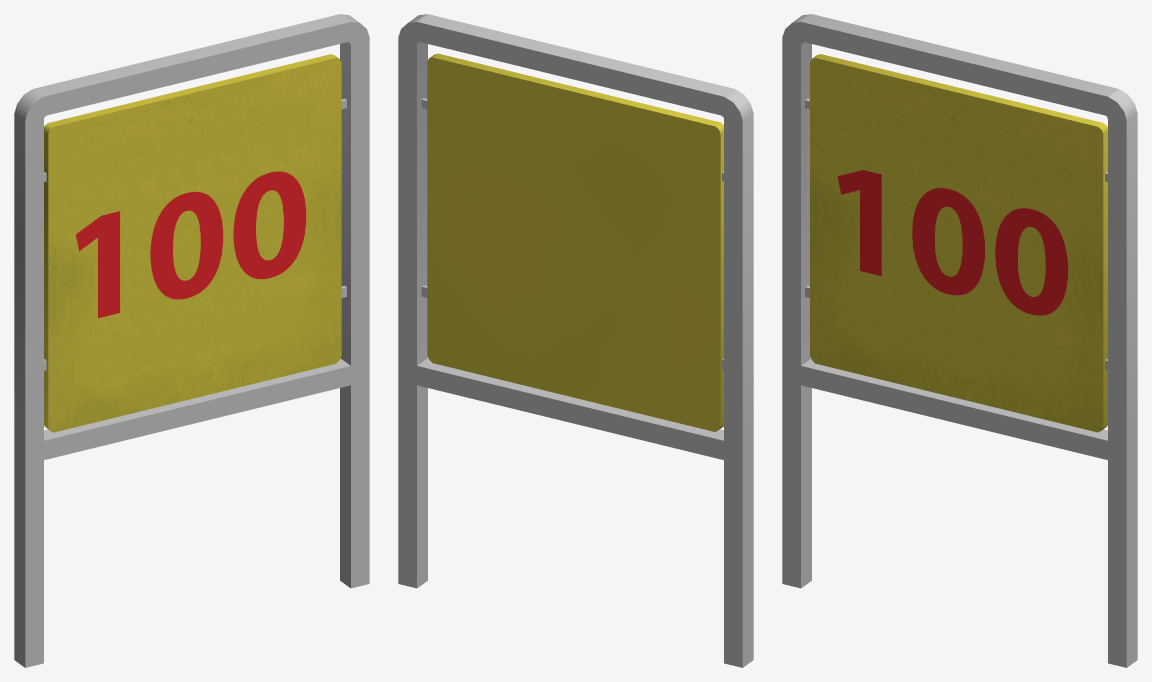
File: Track_Sign_100_Yellow.fbx
3 renders of one model, left to right at view 1: azimuth 30°, elevation 25°; view 2: azimuth 150°, elevation 25°; view 3: azimuth 330°, elevation 25°, orthographic.
Visible parts, largest first — view 1: Speed_100, Frame; view 2: Speed_100, Frame; view 3: Speed_100, Frame.
Part boxes in pixels (x1,y1,x2,y2): Speed_100: [44, 54, 341, 432]; Frame: [14, 14, 369, 667]; Speed_100: [427, 53, 723, 431]; Frame: [398, 14, 753, 667]; Speed_100: [810, 54, 1107, 432]; Frame: [782, 14, 1137, 667].
Size of the model in its own units: 130 by 204 by 7.
